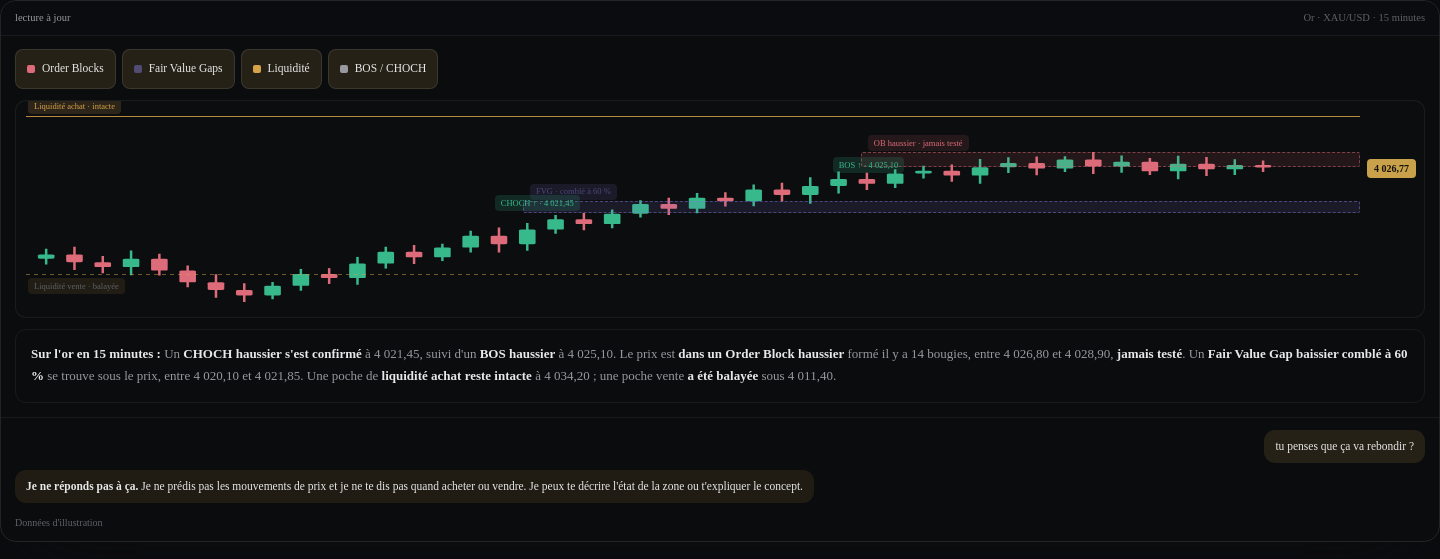
LP-3 hero — the visitor is never locked out › a click on a layer during the arrival stops it AND is applied
mid-sequence, the visitor unticks a layer — the chips are live already
Press the mouse on the button "Fair Value Gaps": [178, 69] box [122,49,234,89]
Click the button "Fair Value Gaps": [178, 69] box [122,49,234,89]
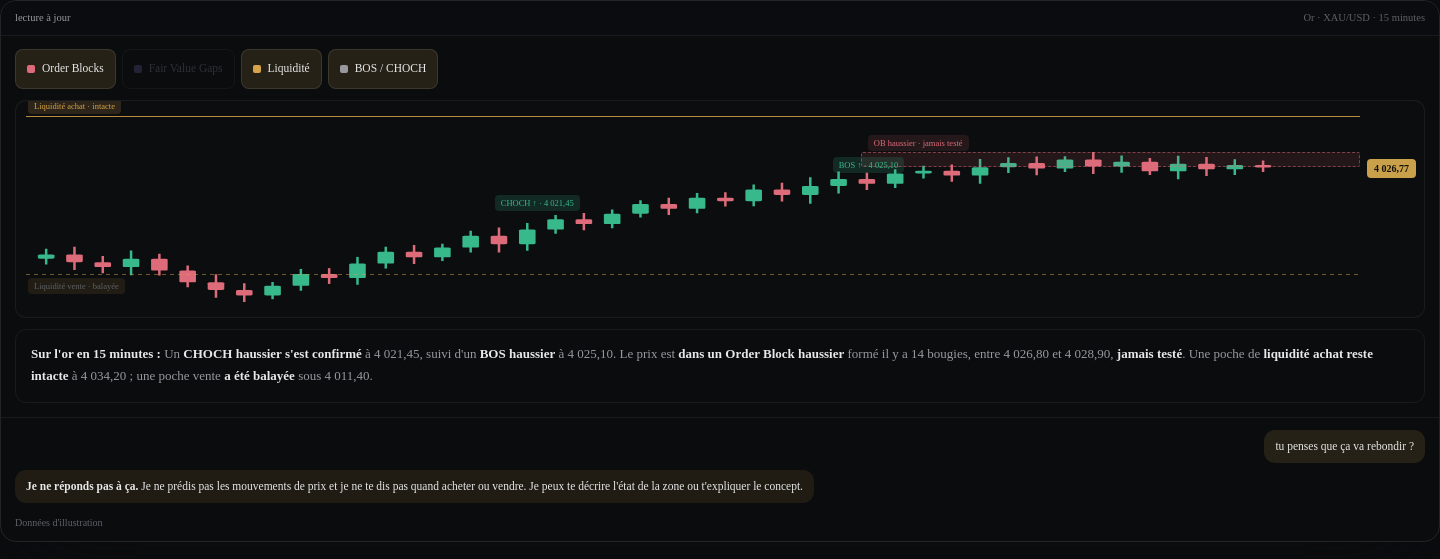
Expected: the text "dans un Order Block haussier" is shown, [678,346,844,361]
Result: the text "Fair Value Gap baissier comblé" is gone
